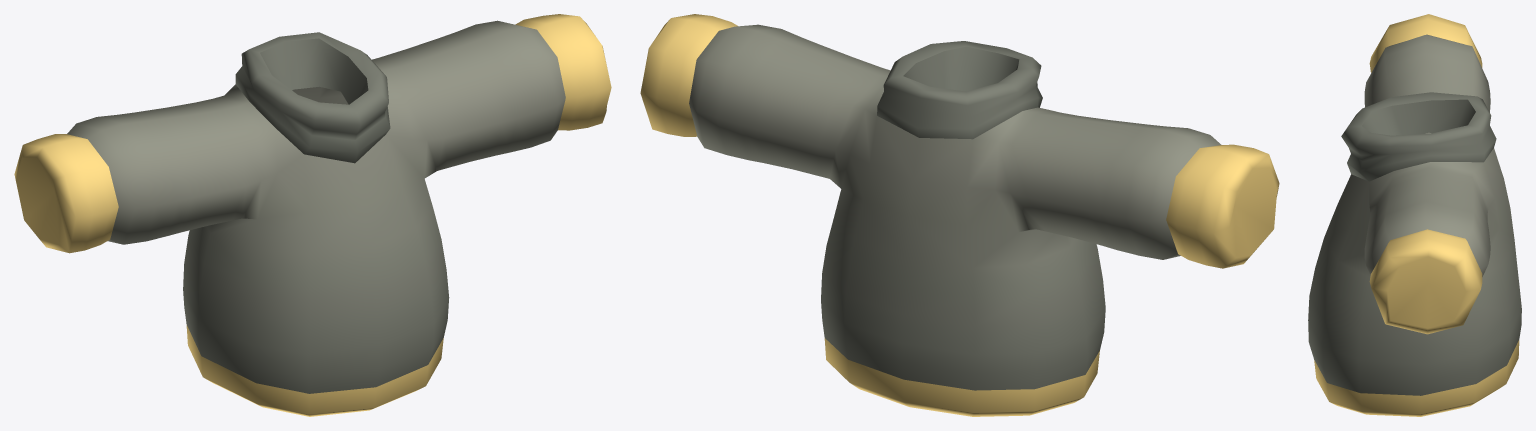
Rendered from Top_21.fbx.
3 renders of one model, left to right at view 1: azimuth 30°, elevation 25°; view 2: azimuth 150°, elevation 25°; view 3: azimuth 270°, elevation 25°, orthographic. The views are drawn at different scales.
Parts seen in each view (by area): view 1: Top_21; view 2: Top_21; view 3: Top_21.
Boxes of the visible parts, x1=… form: Top_21: x1=14, y1=14, x2=611, y2=416; Top_21: x1=640, y1=14, x2=1279, y2=416; Top_21: x1=1308, y1=14, x2=1521, y2=416.
Bounding box in the file's own units: 98 × 52.42 × 37.16.
